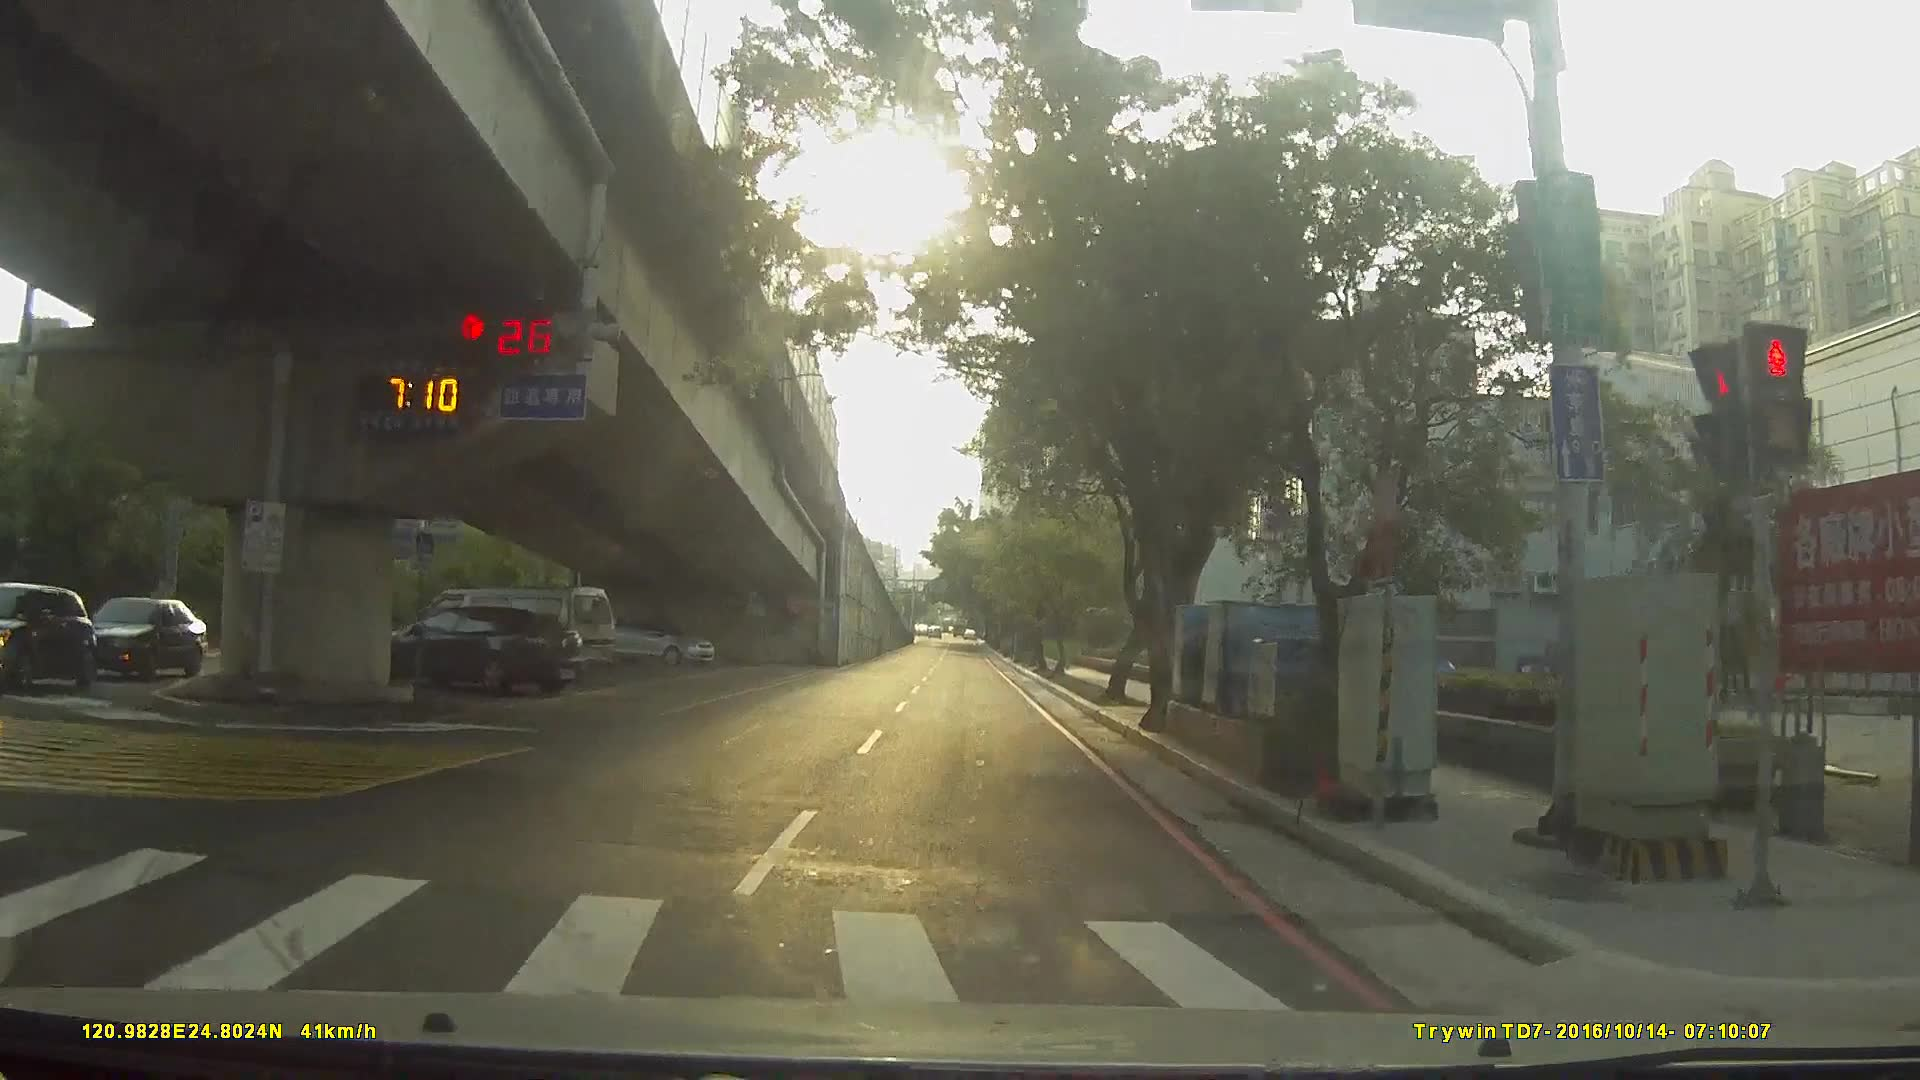vehicle: (357, 600, 575, 696), (404, 582, 612, 680), (73, 588, 216, 676), (1, 578, 103, 687), (589, 612, 715, 669)
